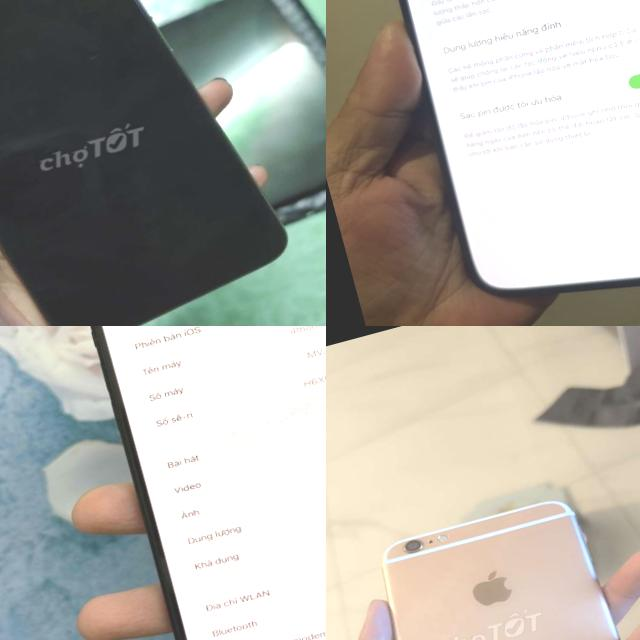gen_14: (331, 0, 640, 326)
gen_15: (51, 326, 326, 640)
gen_6: (338, 464, 640, 640)
gen_x_xs: (0, 0, 326, 326)
